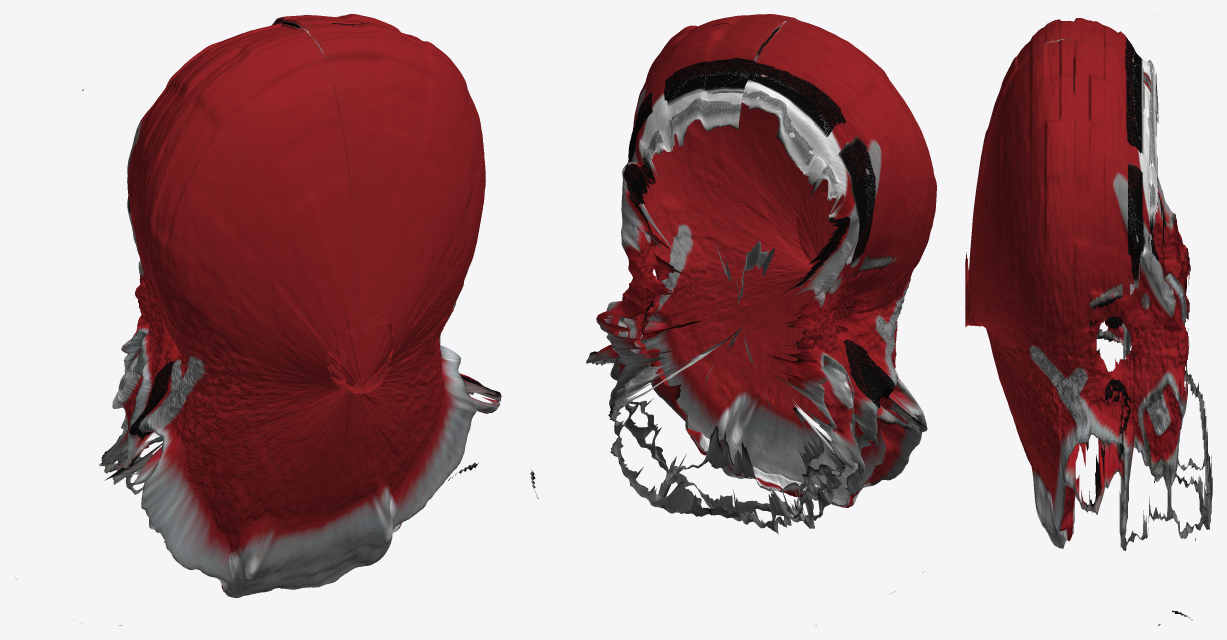
The picture shows the model from 3 angles, left to right: view 1: azimuth 30°, elevation 25°; view 2: azimuth 150°, elevation 25°; view 3: azimuth 270°, elevation 25°; orthographic projection. The views are drawn at different scales.
Visible parts, largest first — view 1: geometry_0; view 2: geometry_0; view 3: geometry_0.
Boxes of the visible parts, box(x1,y1,x2,y2) form: geometry_0: box(15, 14, 501, 625); geometry_0: box(530, 14, 936, 625); geometry_0: box(965, 14, 1212, 625).
Bounding box in the file's own units: 1.5 × 1.93 × 0.7896.
1 material, 1 textured.
